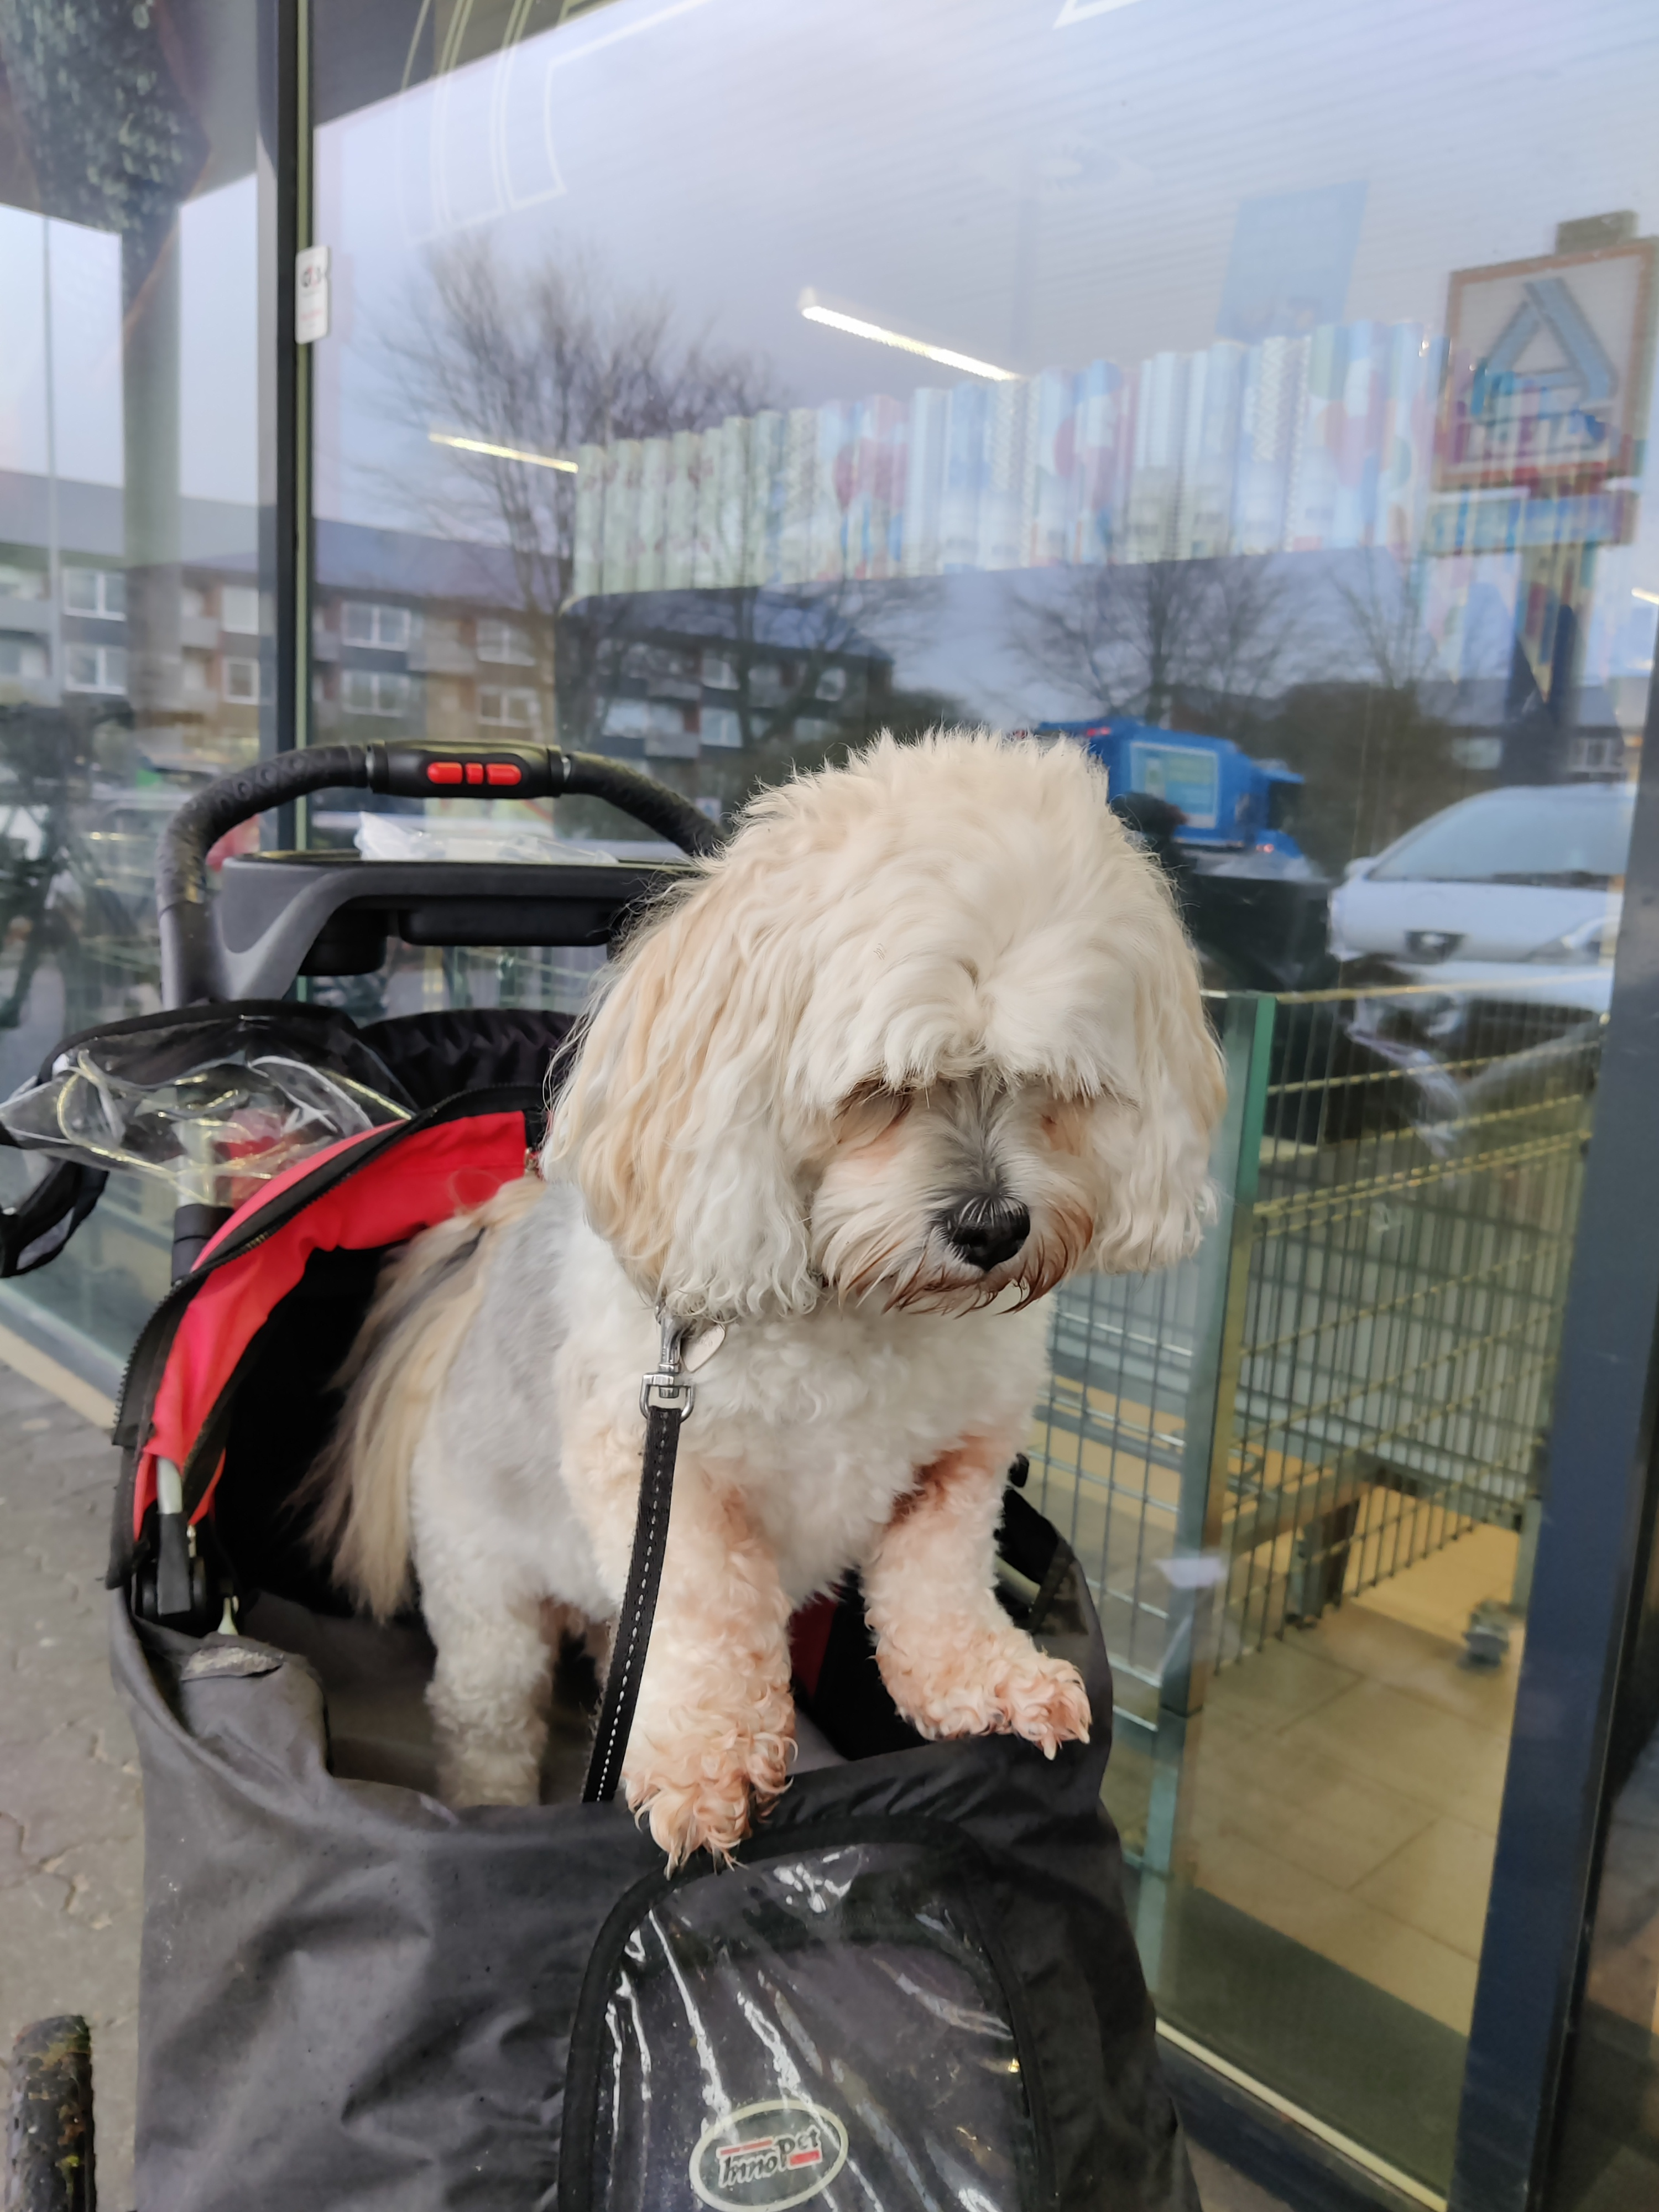Dog: (268, 714, 1246, 1874)
